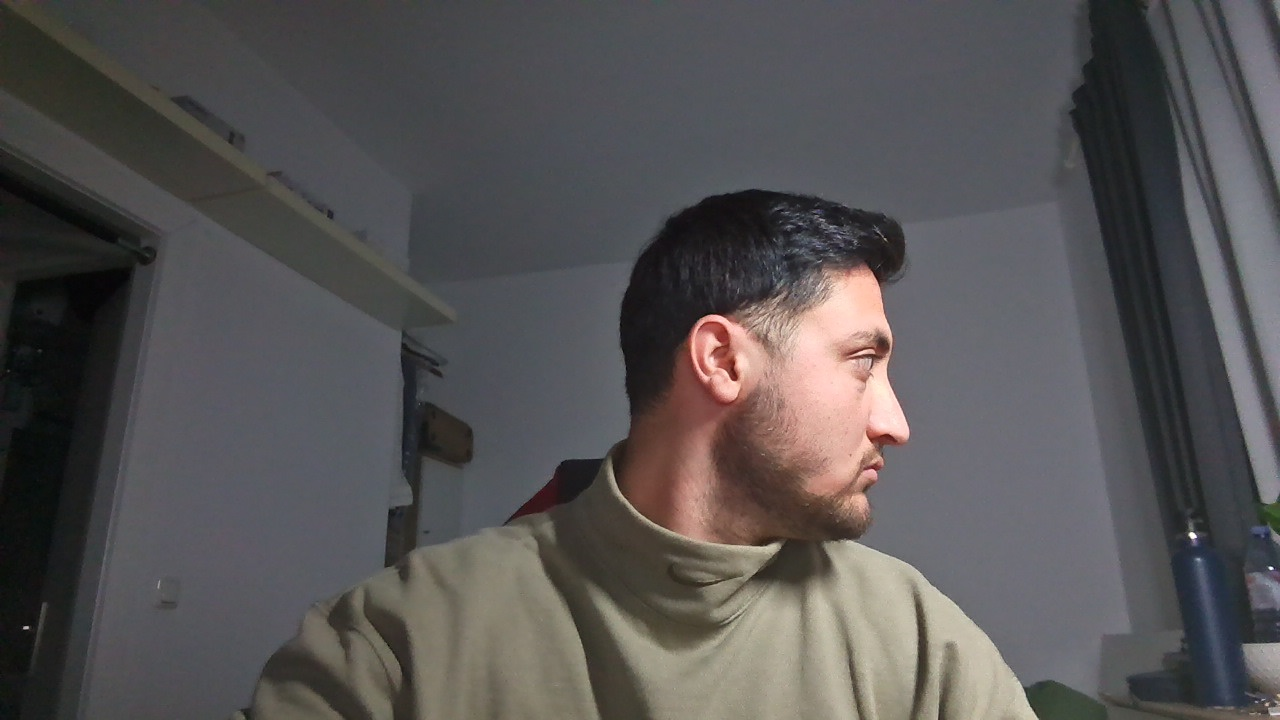Wasserflasche: (1123, 459, 1242, 714)
me: (534, 187, 967, 562)
